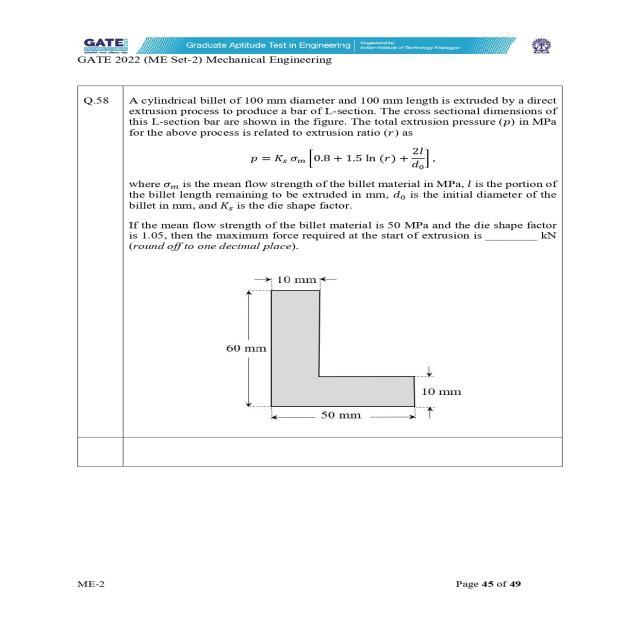Question_Answer_Block: (74, 86, 562, 438)
Question_Block: (73, 86, 562, 440)
Question_Paper_Area: (75, 56, 560, 467)
